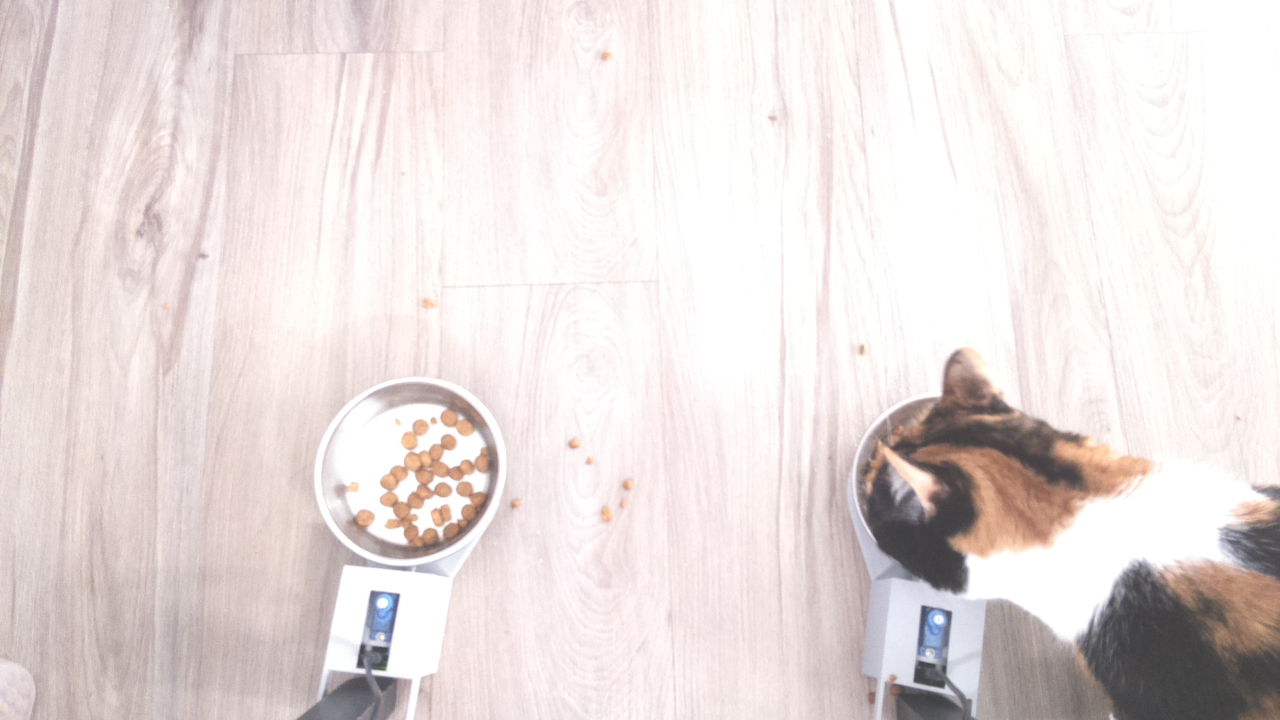bella_eating: (840, 349, 1201, 621)
open_bowl: (314, 376, 509, 571)
